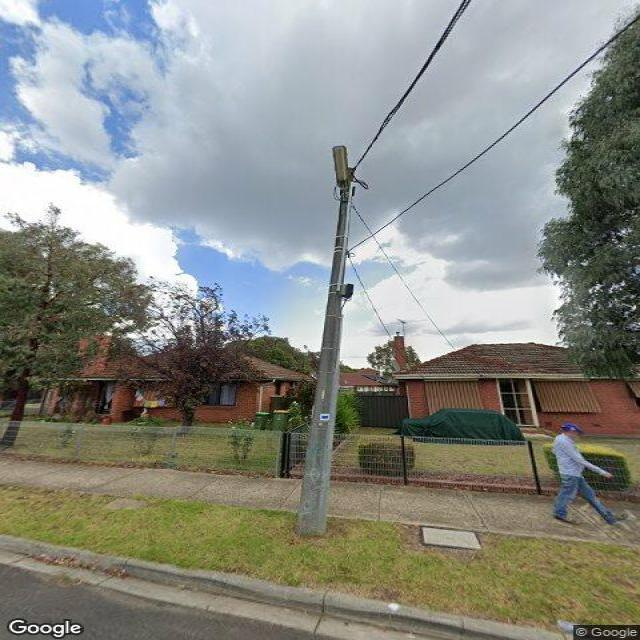streetlight: (331, 145, 351, 202)
timber-pole: (294, 169, 355, 532)
